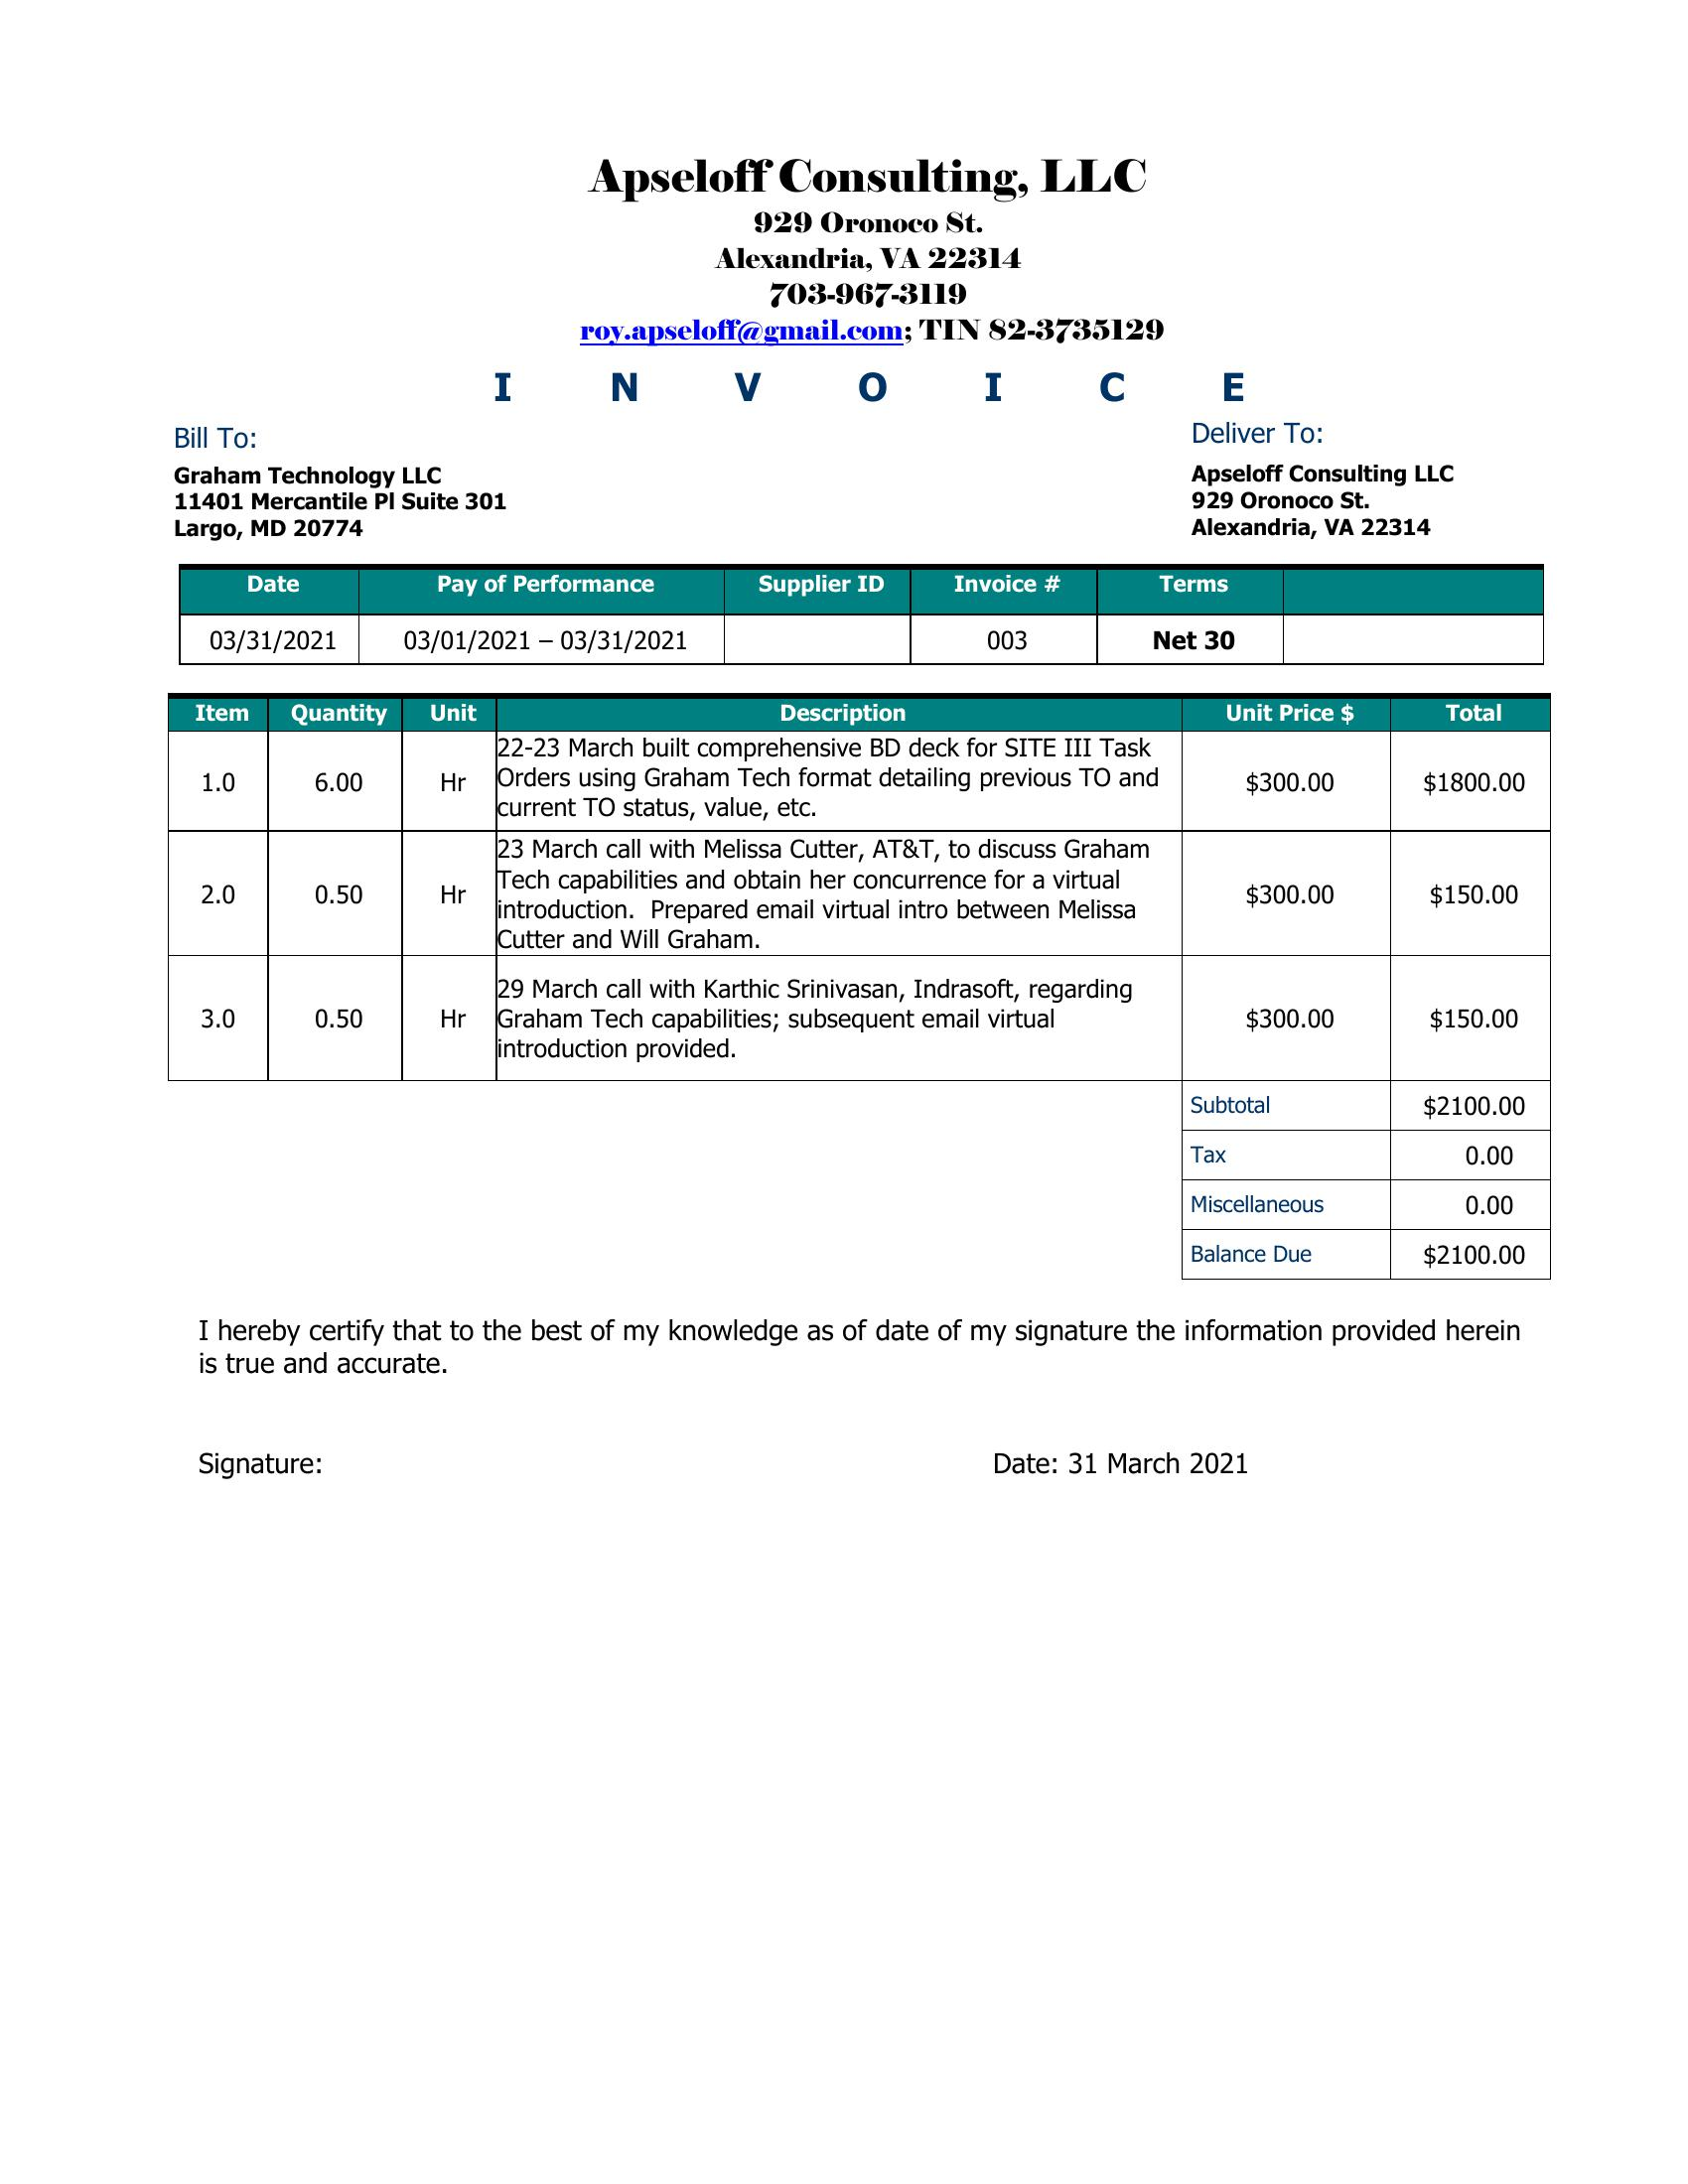table: (158, 691, 1562, 1085), (174, 557, 1553, 659)
